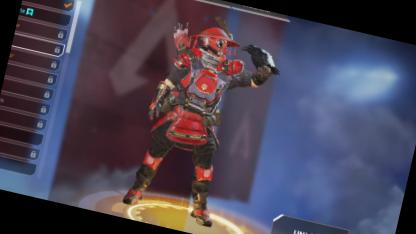Target: (137, 11, 247, 218)
